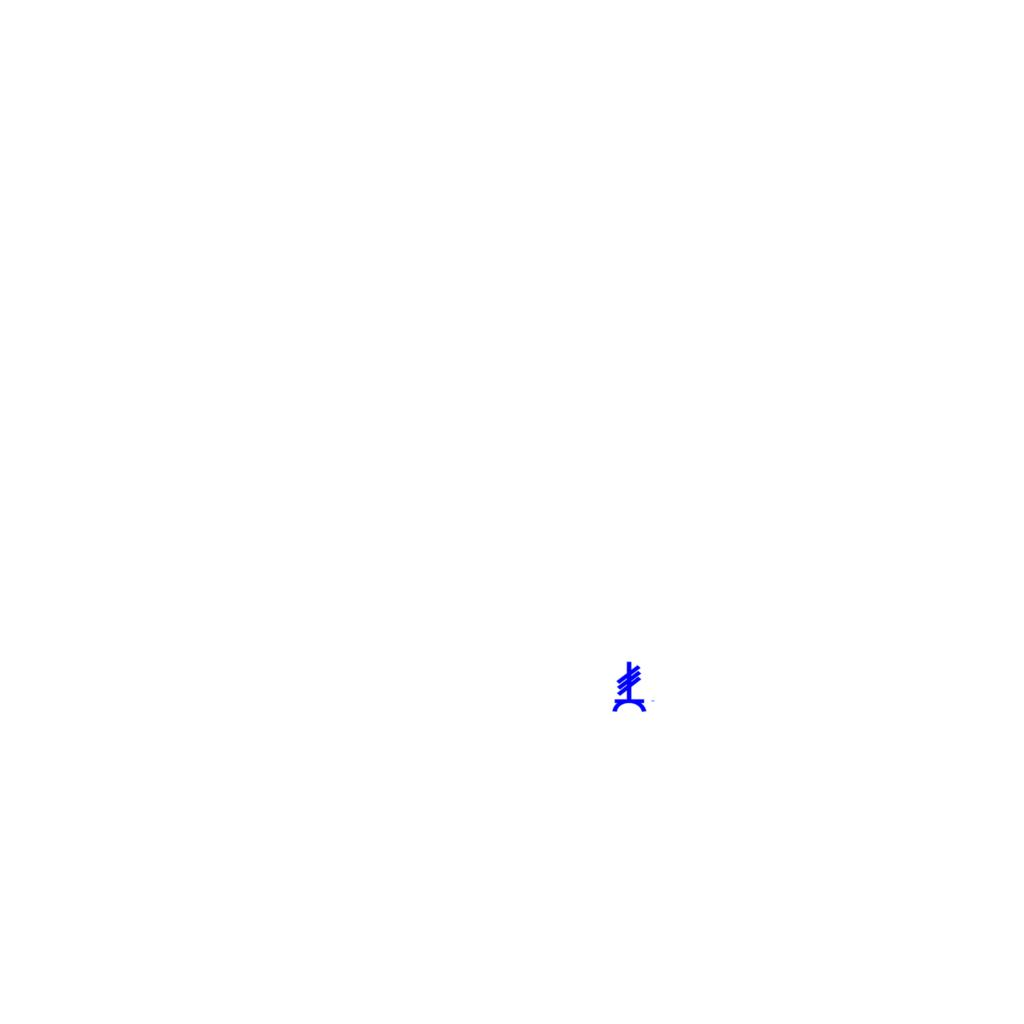CEE_Drehstrom_Steckdose_16_32_A: (611, 661, 656, 713)
